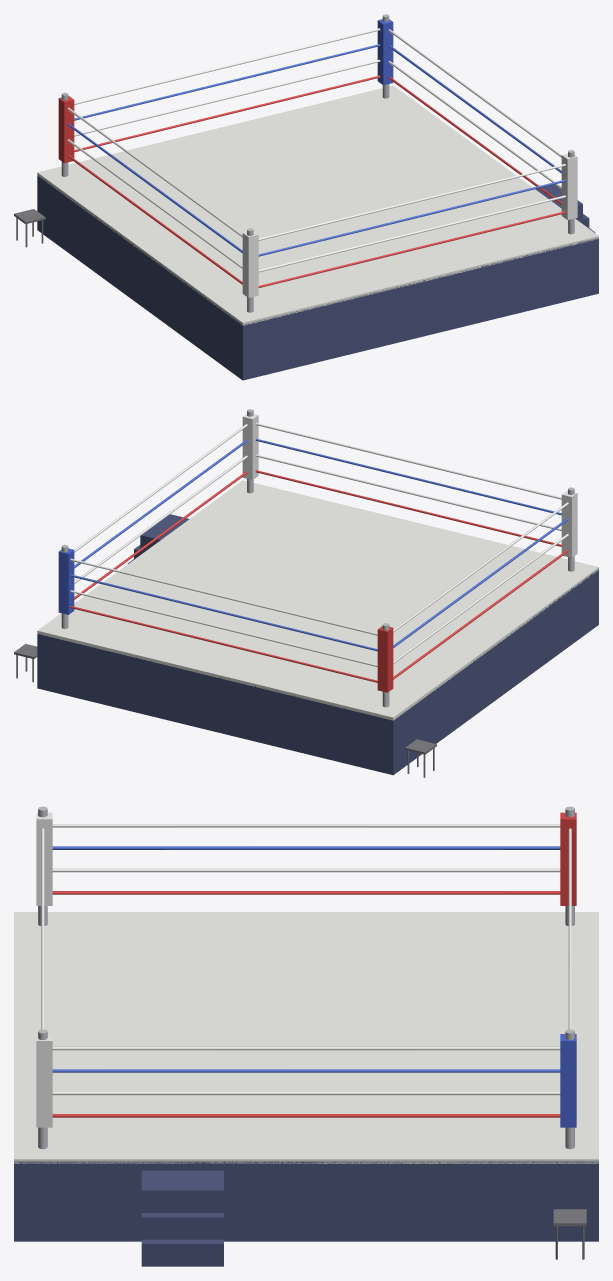
File: ring_pro.glb
3 views of the same model, one above another, from view 1: azimuth 30°, elevation 25°; view 2: azimuth 150°, elevation 25°; view 3: azimuth 270°, elevation 25° (orthographic). The views are drawn at different scales.
Visible parts, largest first — view 1: RingPro; view 2: RingPro; view 3: RingPro.
Part boxes in pixels (x1,y1,x2,y2): RingPro: (14, 14, 598, 380); RingPro: (14, 409, 598, 777); RingPro: (14, 806, 598, 1266).
Size of the model in its own units: 8.47 by 2.65 by 7.1.
